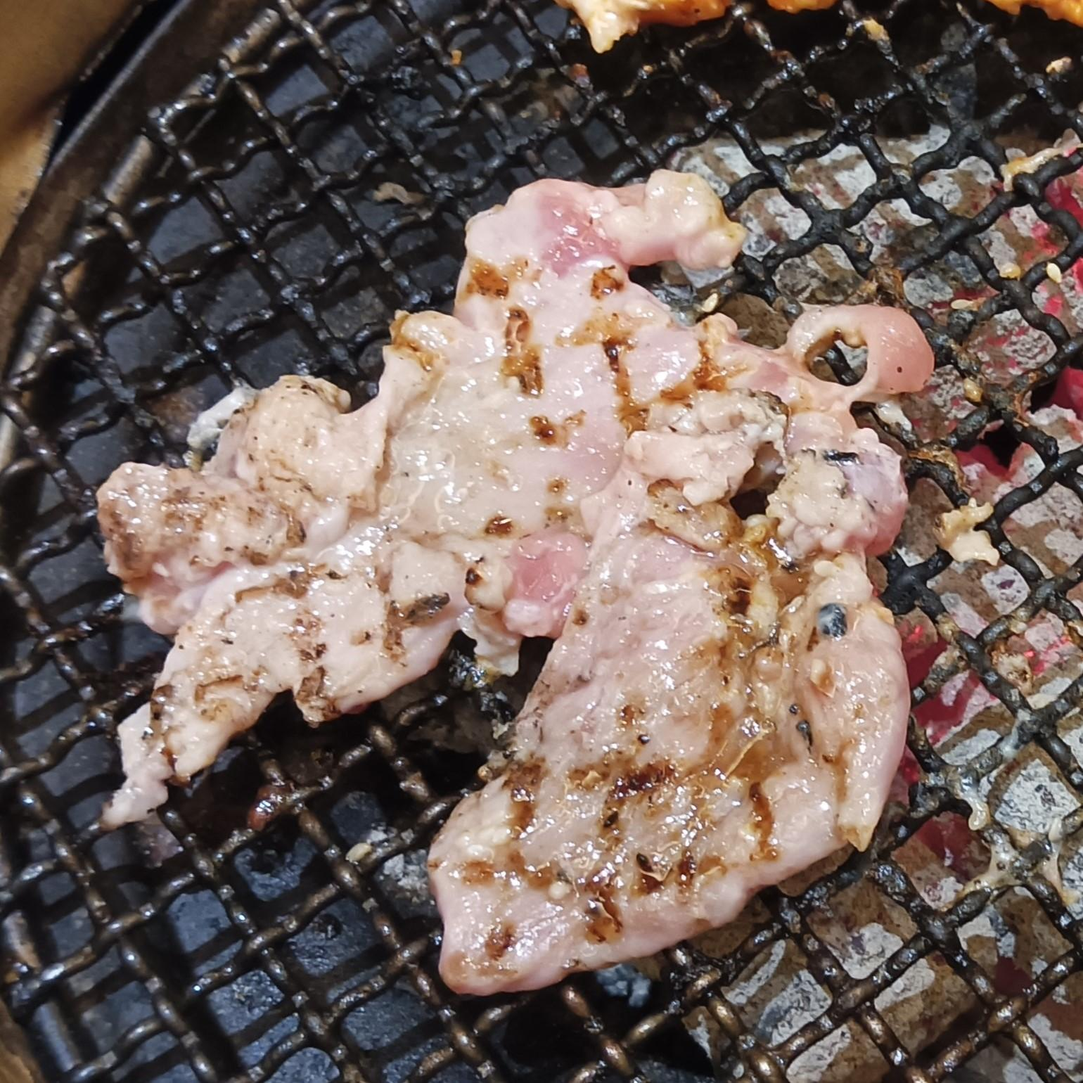Undercooked: (96, 172, 931, 1002)
